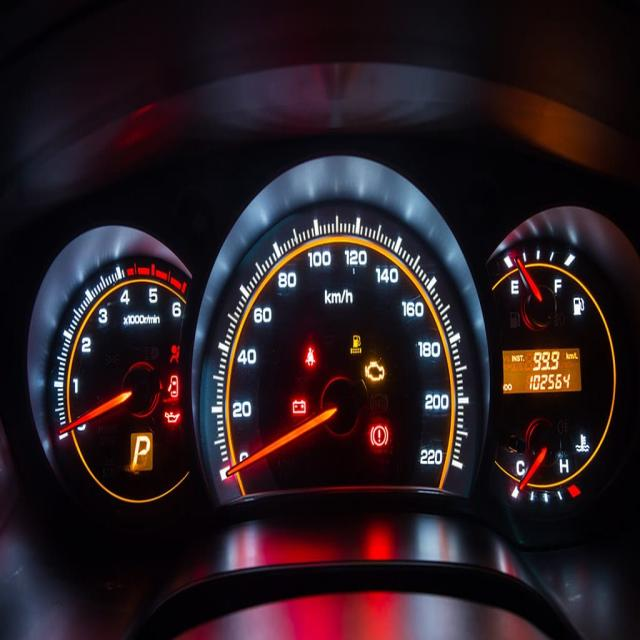kontrolka: (366, 420, 396, 454), (363, 358, 391, 386), (287, 392, 312, 419), (165, 340, 184, 366), (163, 408, 183, 428), (350, 333, 362, 353)
